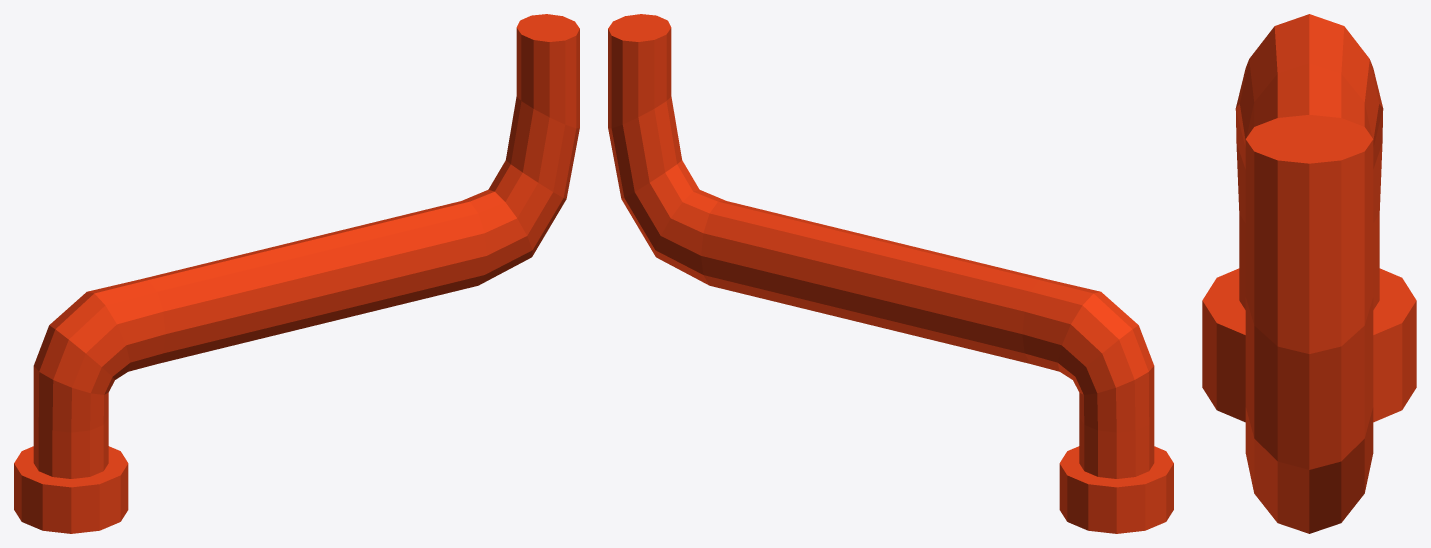
The model's file is SmallCable.fbx.
The picture shows the model from 3 angles, left to right: view 1: azimuth 30°, elevation 25°; view 2: azimuth 150°, elevation 25°; view 3: azimuth 270°, elevation 25°; orthographic projection. The views are drawn at different scales.
Visible parts, largest first — view 1: SmallCable; view 2: SmallCable; view 3: SmallCable.
Part boxes in pixels (<box>): SmallCable: <box>14,14,579,533</box>; SmallCable: <box>608,14,1173,533</box>; SmallCable: <box>1202,14,1416,533</box>.
Bounding box in the file's own units: 1.03 × 0.6487 × 0.184.
